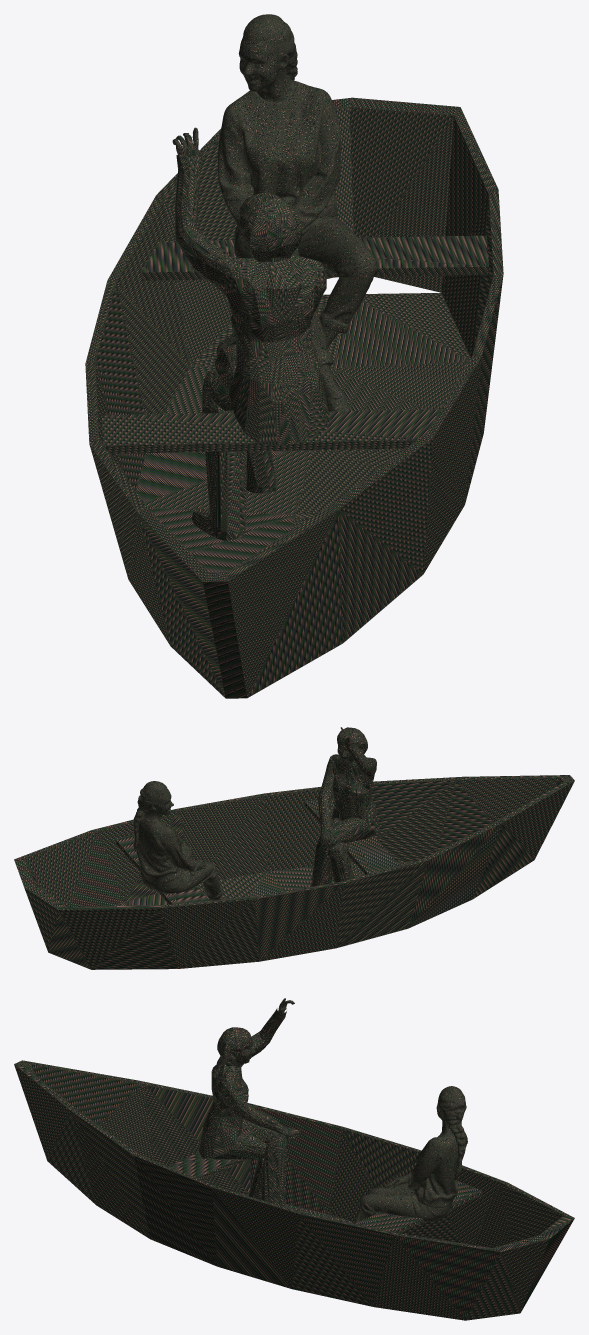
File: Neoflysea2.gltf
3 renders of one model, top to bottom at view 1: azimuth 30°, elevation 25°; view 2: azimuth 150°, elevation 25°; view 3: azimuth 270°, elevation 25°, orthographic. The views are drawn at different scales.
Visible parts, largest first — view 1: CWom0004-S; view 2: CWom0004-S; view 3: CWom0004-S.
Boxes of the visible parts, box(x1,y1,x2,y2) form: CWom0004-S: box(85, 14, 503, 698); CWom0004-S: box(14, 727, 574, 969); CWom0004-S: box(14, 998, 574, 1320).
Size of the model in its own units: 2.93 by 1.8 by 3.73.
